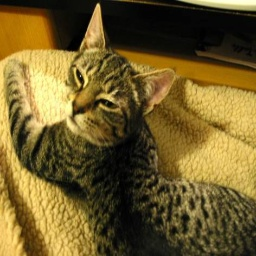cat: (6, 4, 254, 256)
